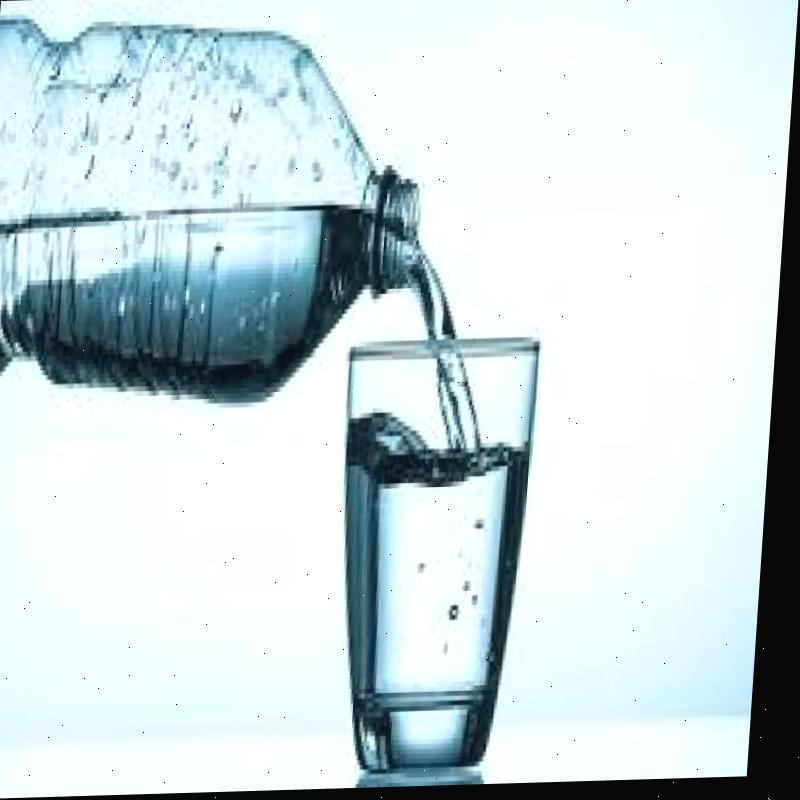botella: (0, 4, 429, 414)
